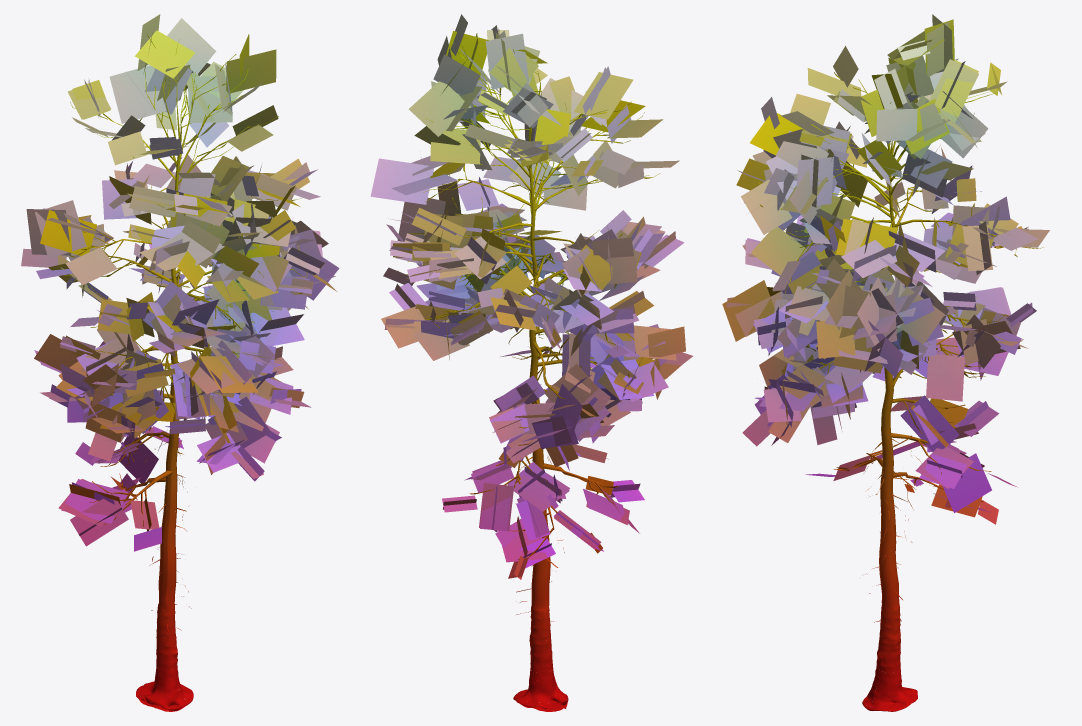
Rendered from pine_c.glb.
The picture shows the model from 3 angles, left to right: view 1: azimuth 30°, elevation 25°; view 2: azimuth 150°, elevation 25°; view 3: azimuth 270°, elevation 25°; orthographic projection. The views are drawn at different scales.
Visible parts, largest first — view 1: cards_lod0, trunk_lod0, branches_lod0; view 2: cards_lod0, branches_lod0, trunk_lod0; view 3: cards_lod0, trunk_lod0, branches_lod0.
Part boxes in pixels (x1,y1,x2,y2): cards_lod0: (21, 14, 339, 551); trunk_lod0: (136, 126, 193, 711); branches_lod0: (61, 33, 306, 631); cards_lod0: (370, 14, 692, 579); branches_lod0: (397, 41, 660, 621); trunk_lod0: (513, 130, 568, 711); cards_lod0: (722, 14, 1049, 524); trunk_lod0: (862, 143, 917, 711); branches_lod0: (758, 48, 1043, 622).
Size of what is drawn, in the model's own units: 5.8 by 13.13 by 5.94.
